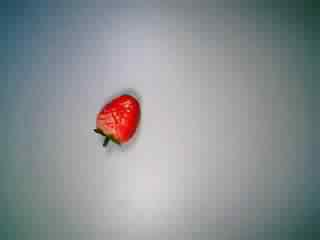strawberry: (82, 91, 144, 148)
